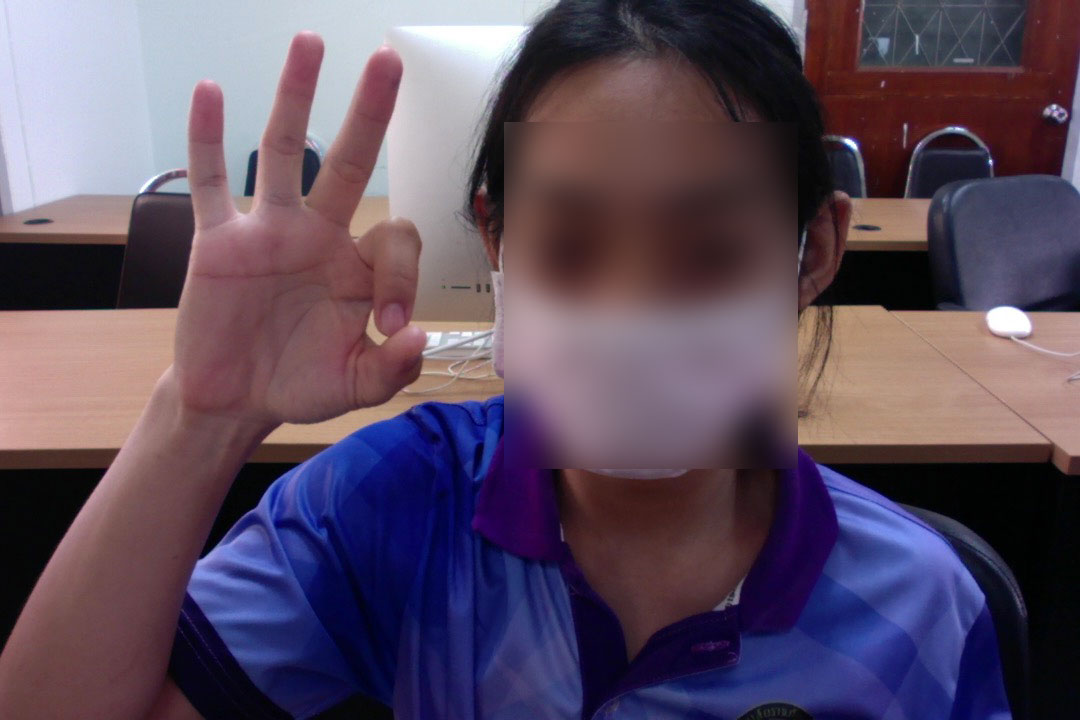for: (158, 17, 431, 449)
